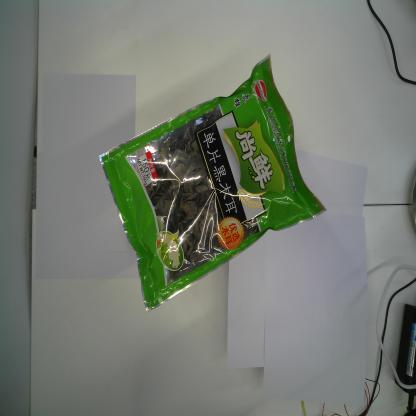Dried Food: (97, 52, 327, 315)
